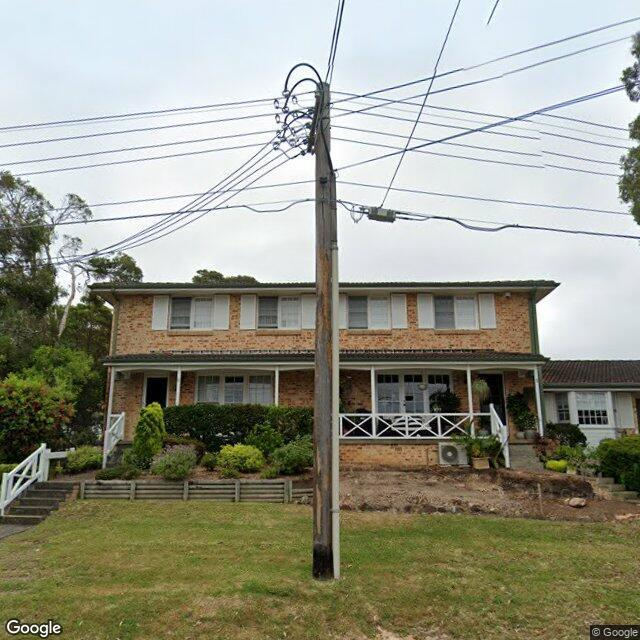crossarm: (305, 82, 323, 154)
timber-pole: (312, 82, 342, 580)
